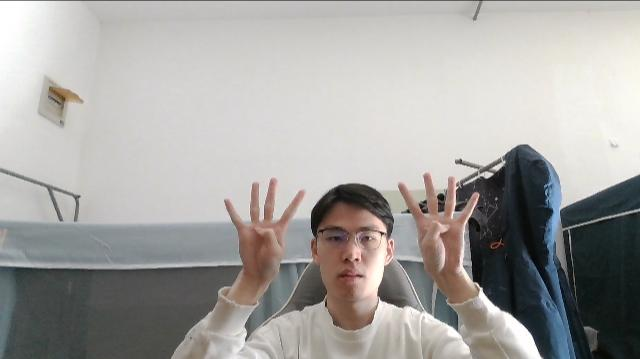four: (221, 175, 305, 278), (397, 172, 480, 272)
